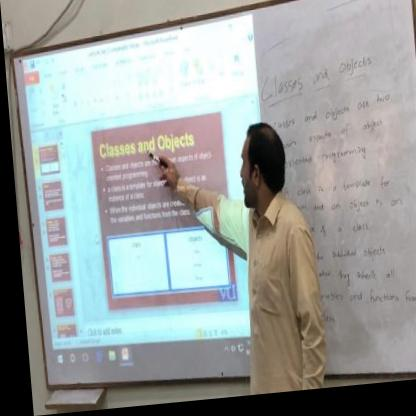Handwritten text: (247, 39, 383, 117), (297, 92, 400, 140), (297, 118, 386, 156), (278, 178, 389, 204), (305, 196, 401, 223), (343, 292, 416, 322), (280, 152, 368, 176), (329, 269, 392, 296), (323, 247, 383, 271), (313, 222, 368, 246)
Lecturer: (204, 114, 340, 401)
